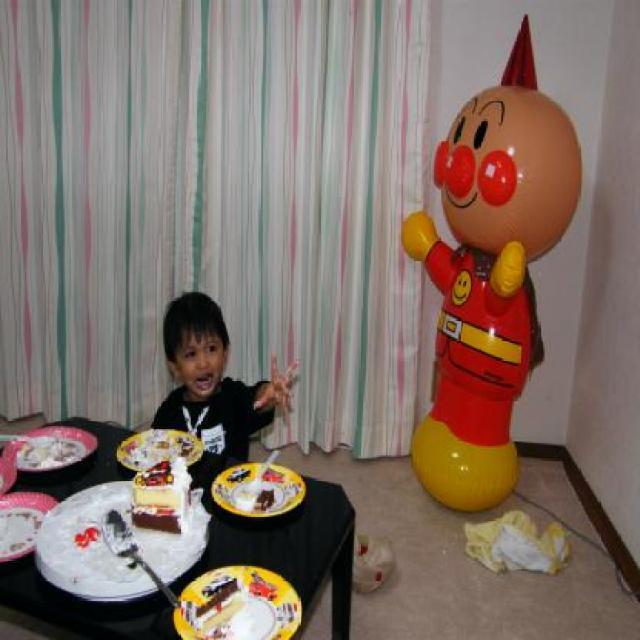Cake: (32, 480, 212, 597), (132, 458, 192, 536), (182, 580, 245, 638), (256, 469, 282, 509), (177, 440, 192, 458)
